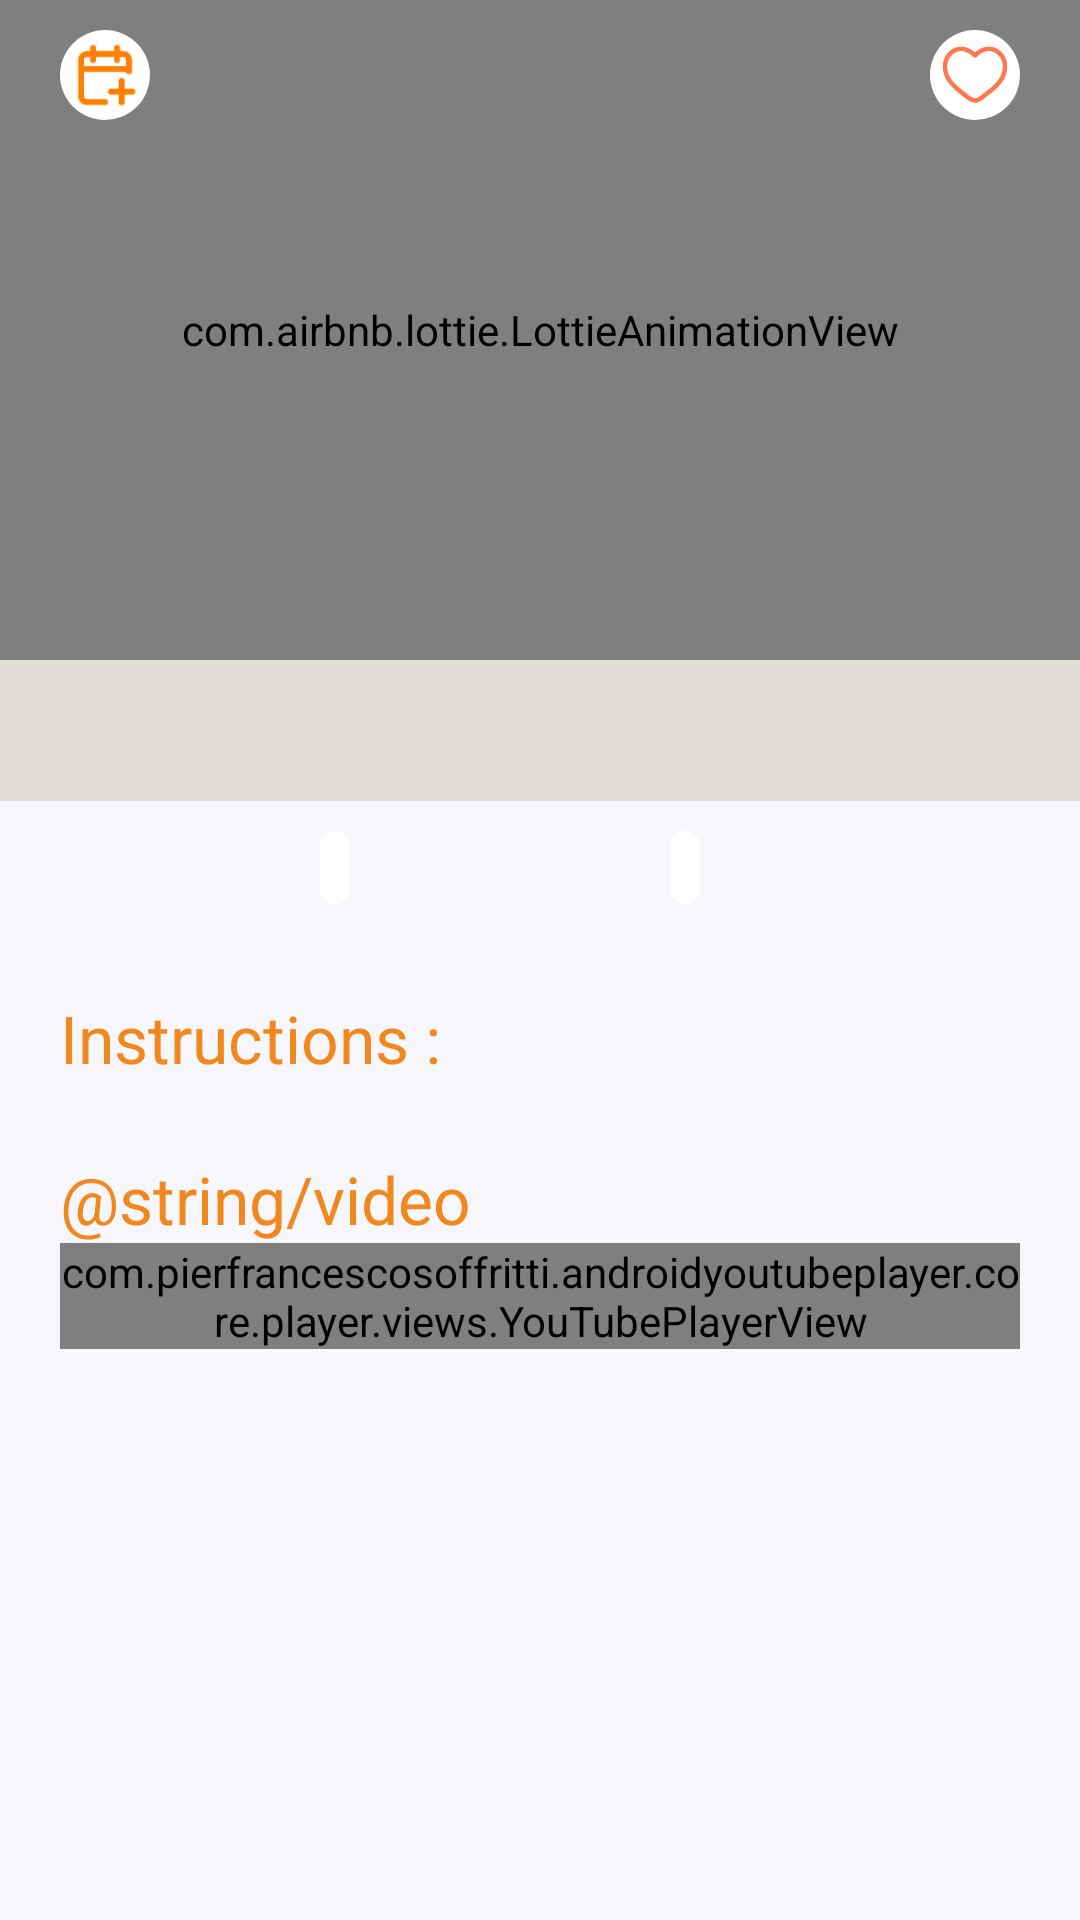

Icons on this 1080 × 1920 Android screen, each with the point to tap as point (x, y):
calendar add: point (105, 75)
heart: point (975, 75)
